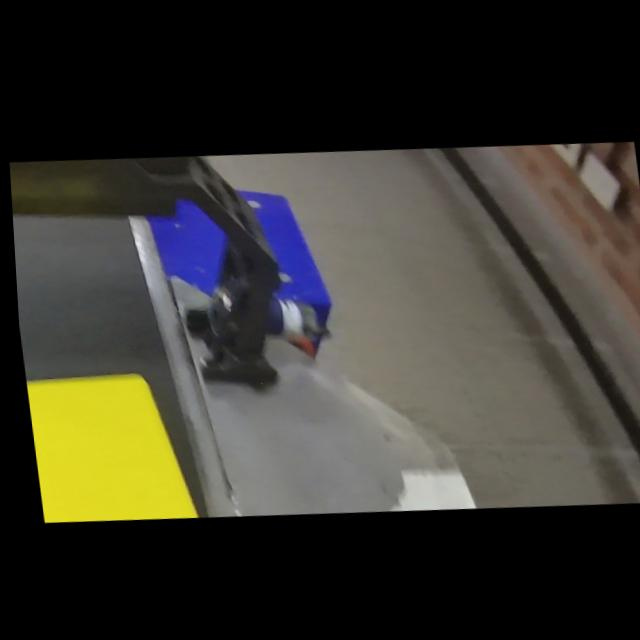yellowBox: (20, 360, 203, 527)
